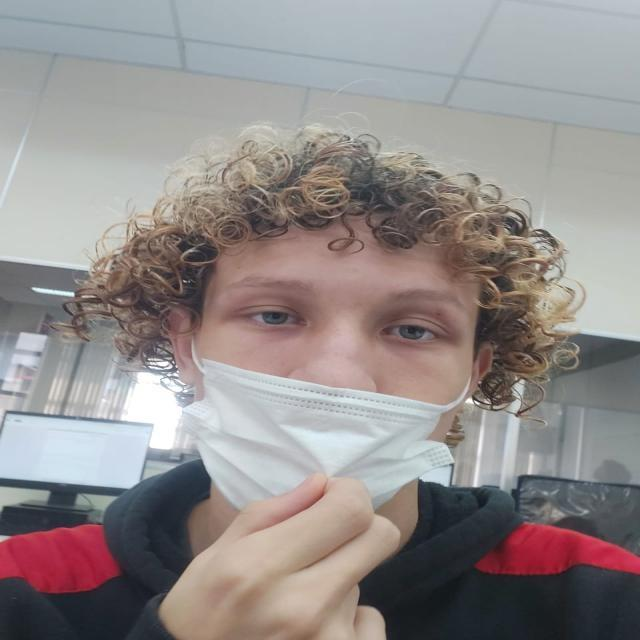hairnet: (197, 238, 472, 484)
